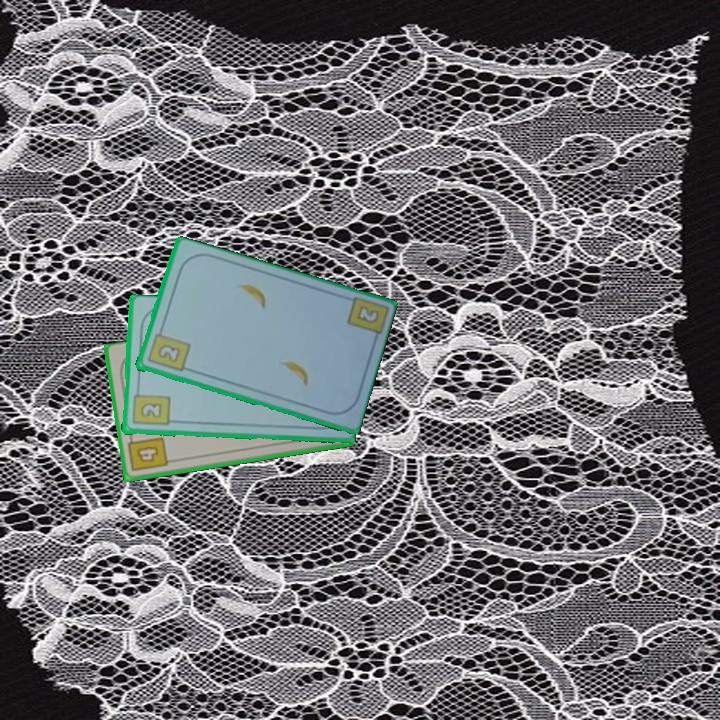2b: (144, 325, 192, 375), (129, 385, 172, 429), (353, 302, 380, 327)
4b: (125, 432, 171, 474)
